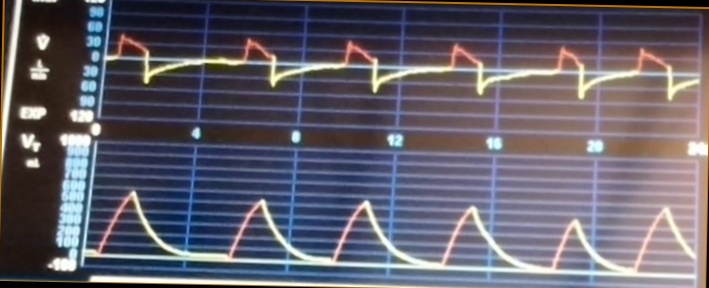Normal Flow: (108, 25, 698, 120)
Normal Volume: (91, 182, 695, 276)
